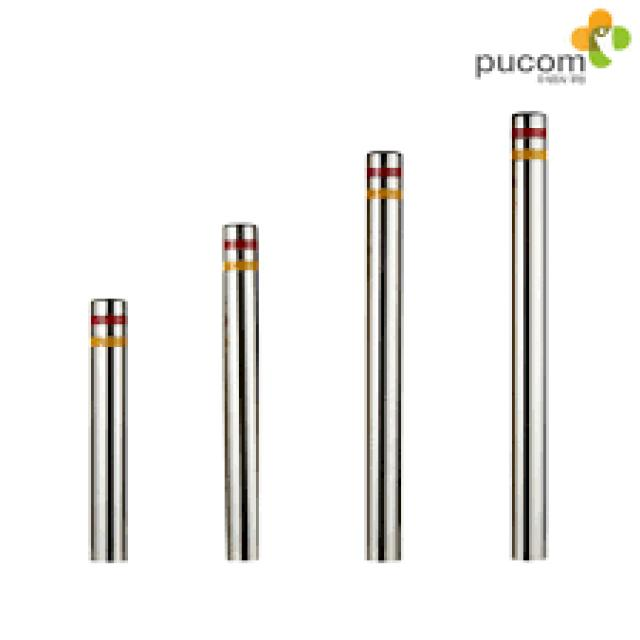bollard: (494, 102, 567, 571), (352, 136, 415, 573), (214, 214, 267, 576), (78, 288, 139, 572)
